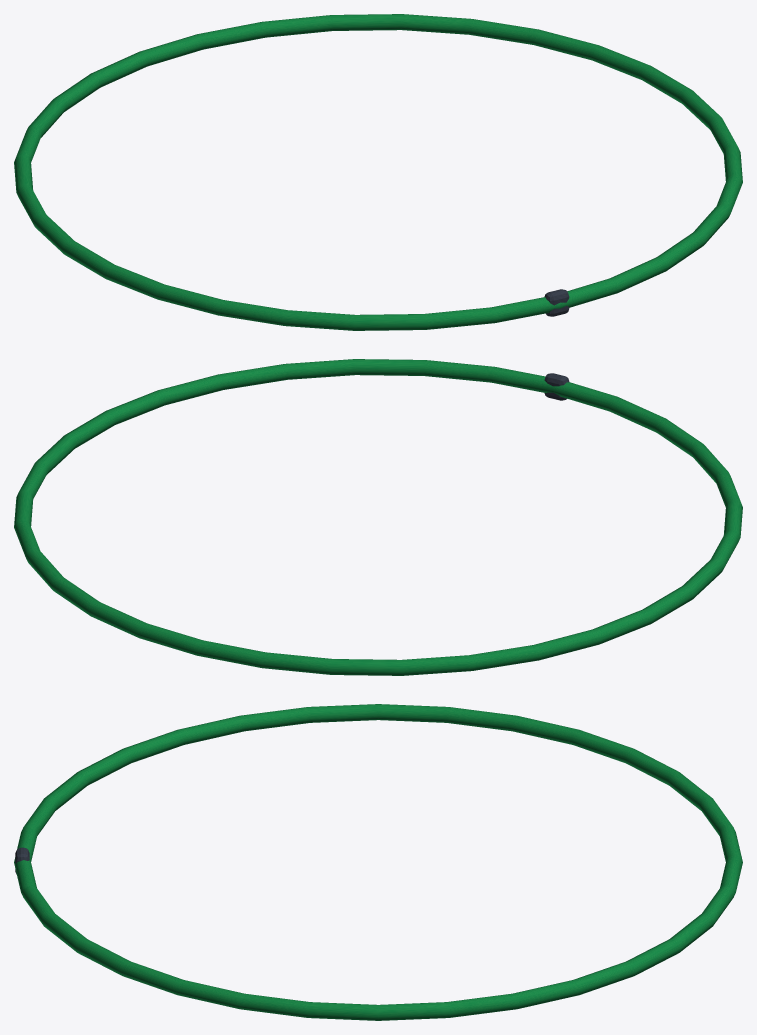
File: OwnershipHalo.obj
3 views of the same model, one above another, from view 1: azimuth 30°, elevation 25°; view 2: azimuth 150°, elevation 25°; view 3: azimuth 270°, elevation 25° (orthographic).
Parts seen in each view (by area): view 1: Ring.001; view 2: Ring.001; view 3: Ring.001.
Boxes of the visible parts, x1,y1,x2,y2 form: Ring.001: (14,14,742,330); Ring.001: (14,359,742,675); Ring.001: (14,704,742,1020).
Bounding box in the file's own units: 0.512 × 0.018 × 0.512.
